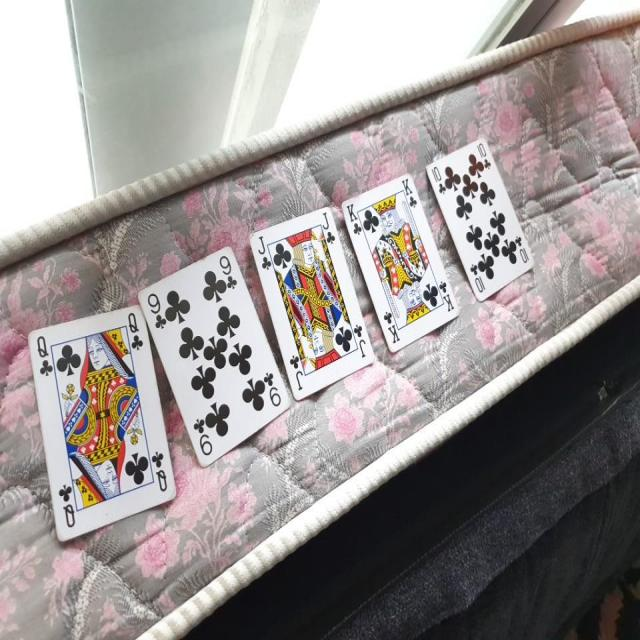10 Trefoils: (423, 135, 538, 304)
9 Trefoils: (135, 246, 291, 468)
J Trefoils: (250, 204, 375, 401)
K Trefoils: (341, 173, 458, 355)
Q Trefoils: (26, 304, 177, 544)
